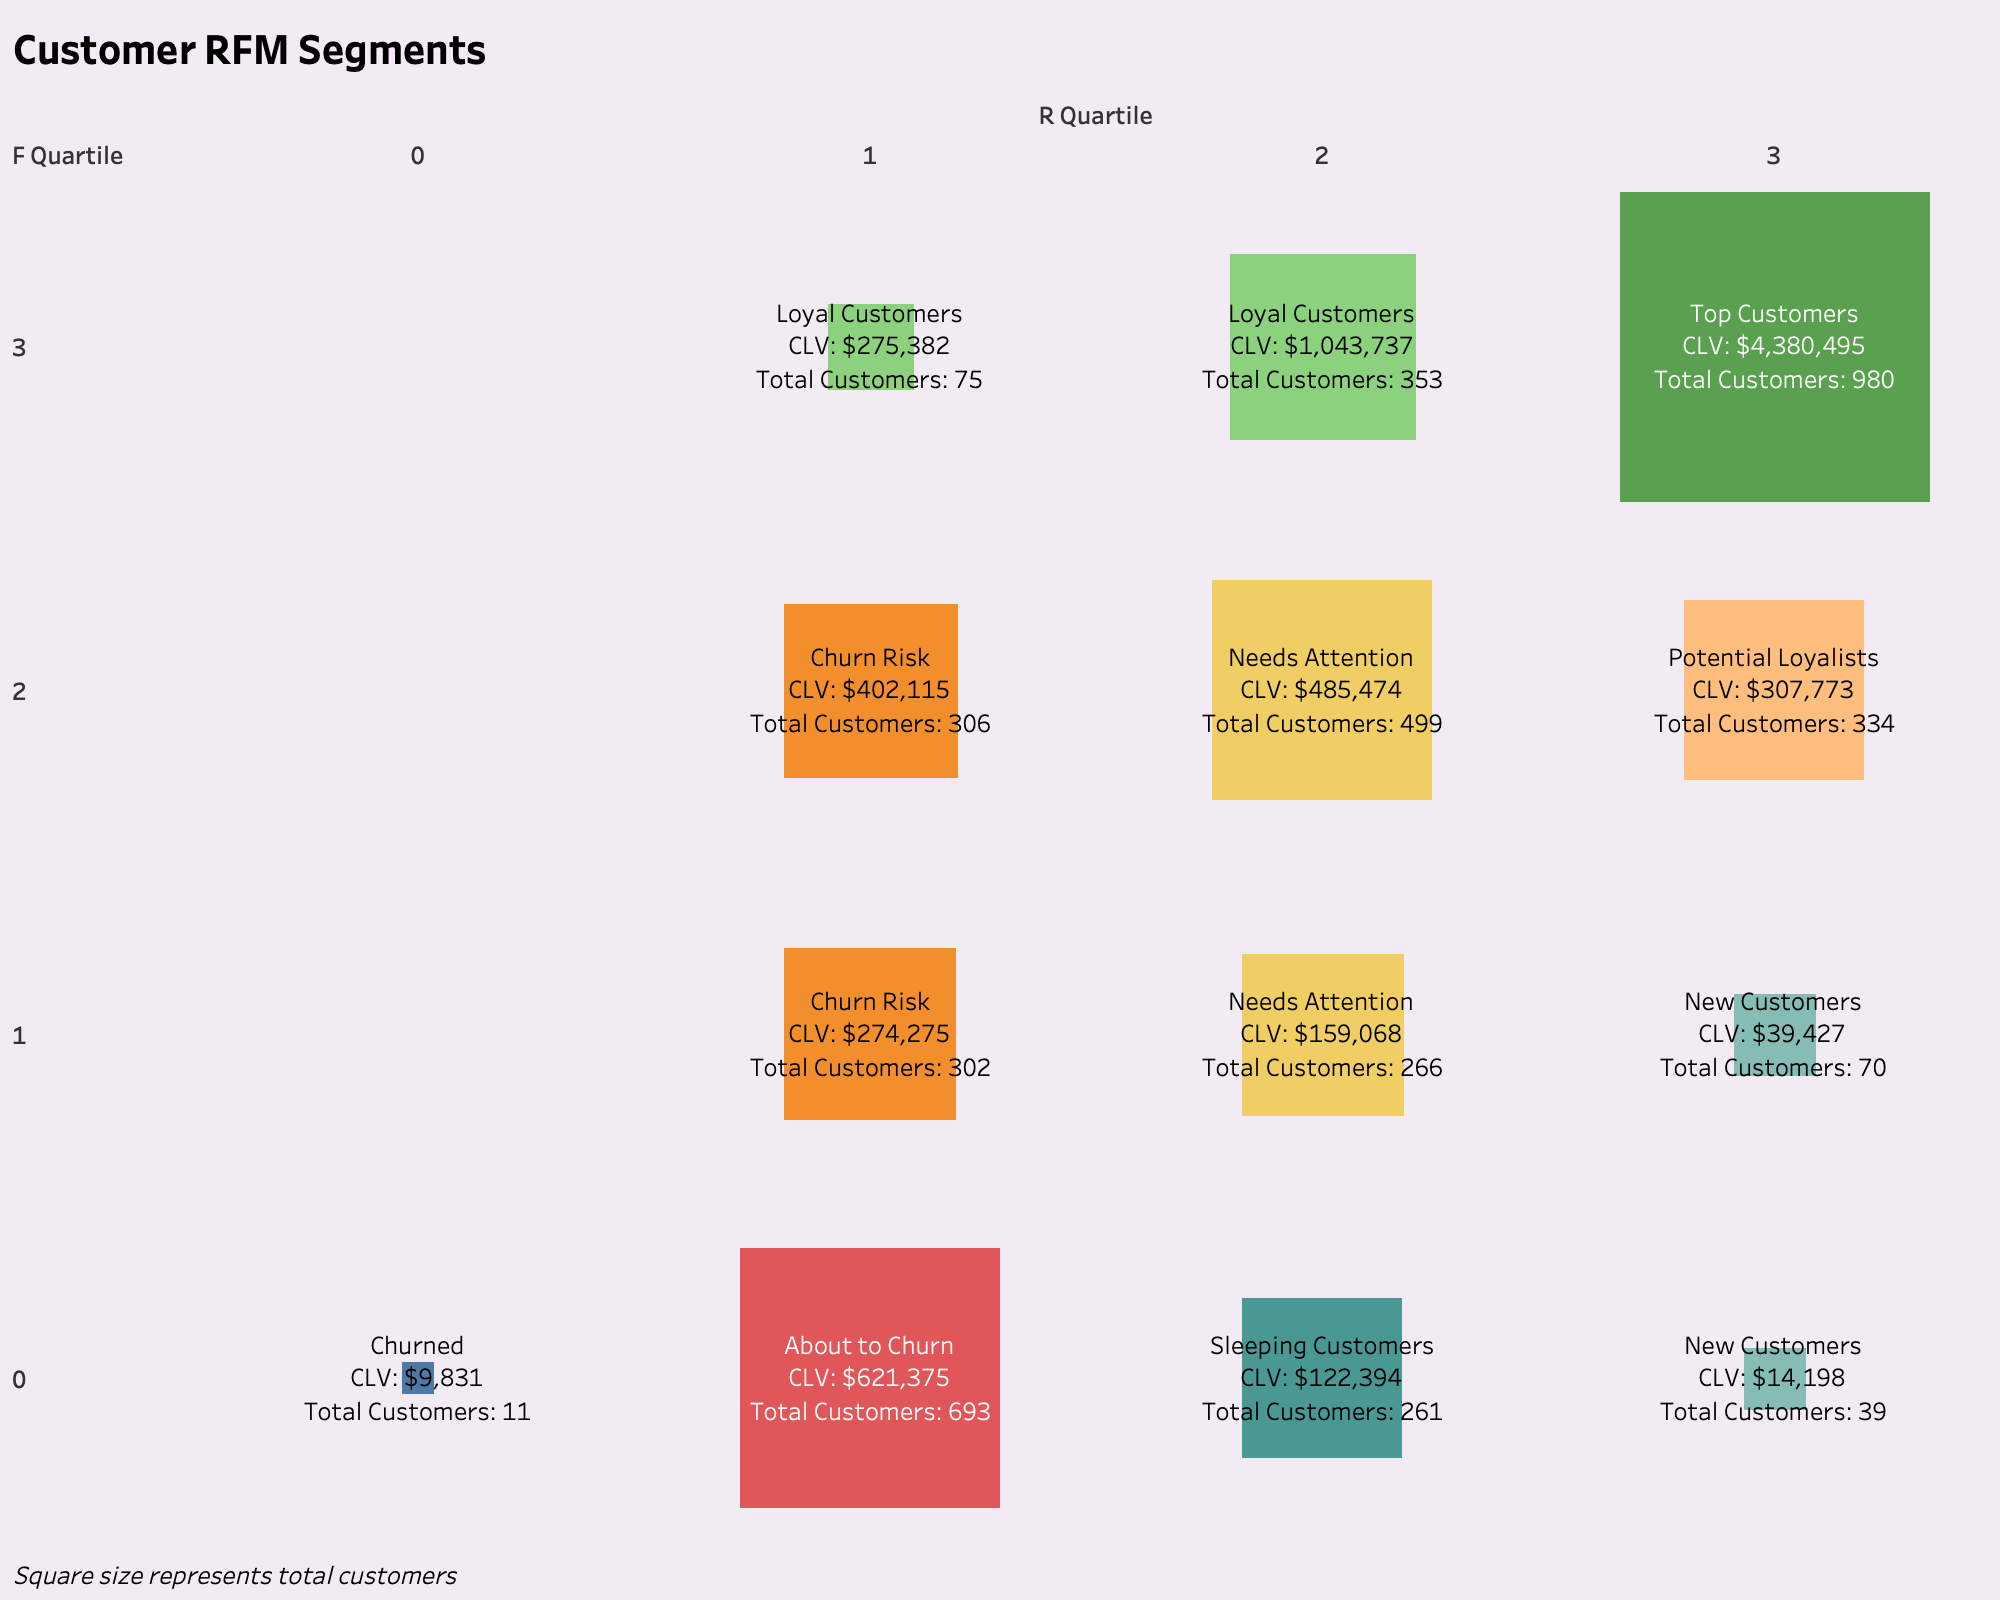

This screenshot's page, from the dashboard's own definition file:
{"tool":"tableau","page":{"name":"Customer RFM Segmentation","canvas":[1000,800],"ordinal":2},"visuals":[{"type":"worksheet","box":[0,0,1000,800]},{"type":"worksheet","param":"vert","box":[0,0,1000,800]},{"type":"worksheet","box":[0,0,1000,47]},{"type":"worksheet","title":"RFM Segments","mark":"Square","rows":["f_quartile"],"cols":["r_quartile"],"box":[0,47,1000,728]},{"type":"worksheet","box":[0,775,1000,25]}]}

Visuals, with their boxes in screenshot pixels (x1, y1, x2, y2), scaled from the page's 1000x800 canvas onto the 2000x1600 screenshot:
worksheet: 0, 0, 1999, 1599
worksheet: 0, 0, 1999, 1599
worksheet: 0, 0, 1999, 94
"RFM Segments" worksheet (Square marks): 0, 94, 1999, 1550
worksheet: 0, 1550, 1999, 1599
